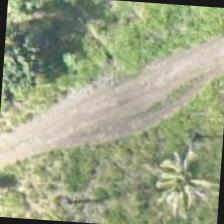Kelapa_Sawit: (135, 133, 222, 223)
